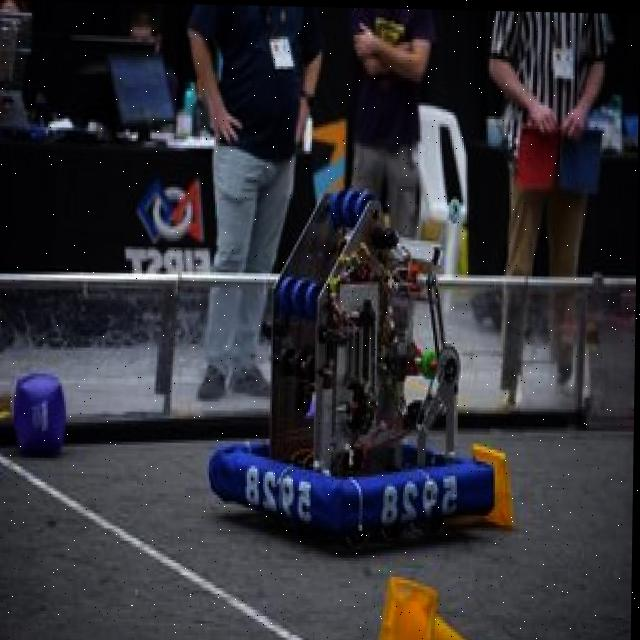robot: (191, 150, 512, 546)
